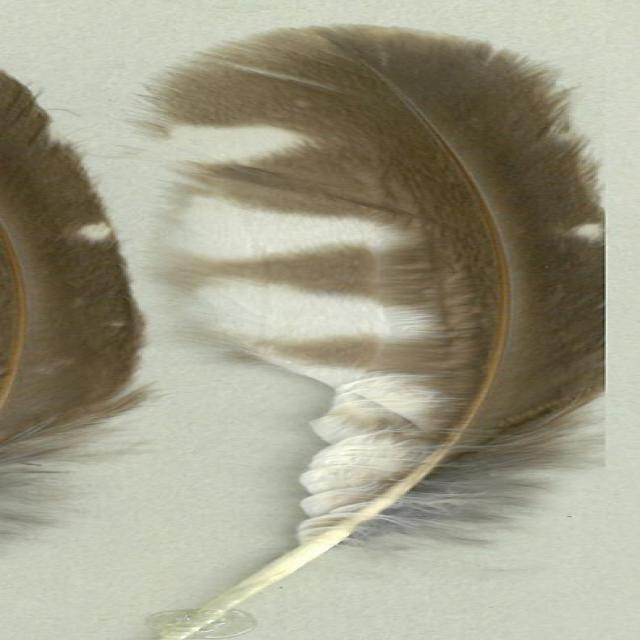feather: (156, 21, 598, 639)
